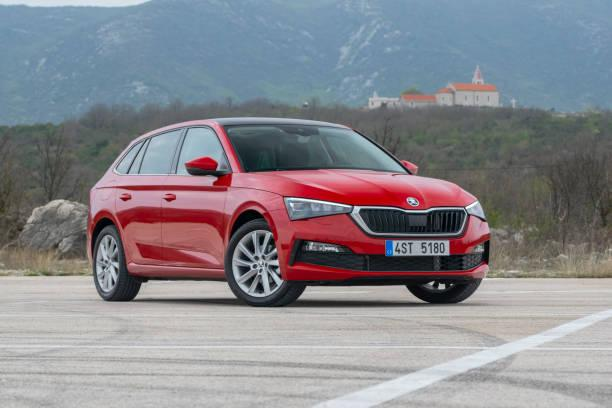skoda: (404, 194, 425, 209)
